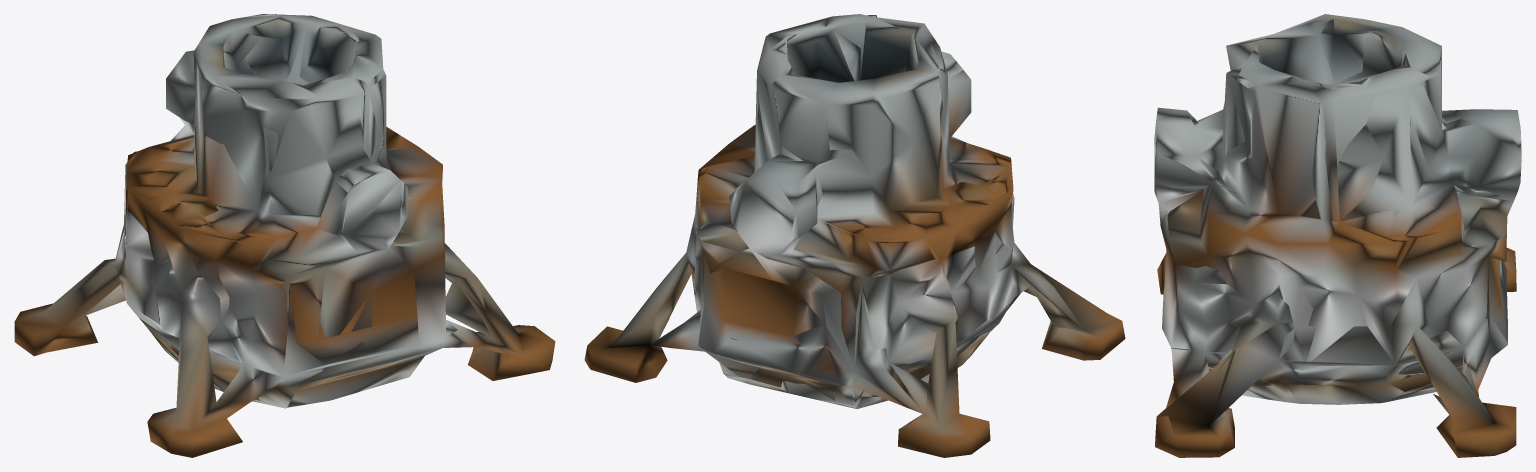
Rendered from gen3d-moon-lander-lod0.glb.
3 views of the same model, side by side, from view 1: azimuth 30°, elevation 25°; view 2: azimuth 150°, elevation 25°; view 3: azimuth 270°, elevation 25° (orthographic). The views are drawn at different scales.
Visible parts, largest first — view 1: part_0; view 2: part_0; view 3: part_0.
Part boxes in pixels (x1,y1,x2,y2): part_0: [14, 14, 555, 457]; part_0: [584, 14, 1125, 457]; part_0: [1154, 14, 1521, 457].
Size of the model in its own units: 1.34 by 0.9995 by 1.07.
